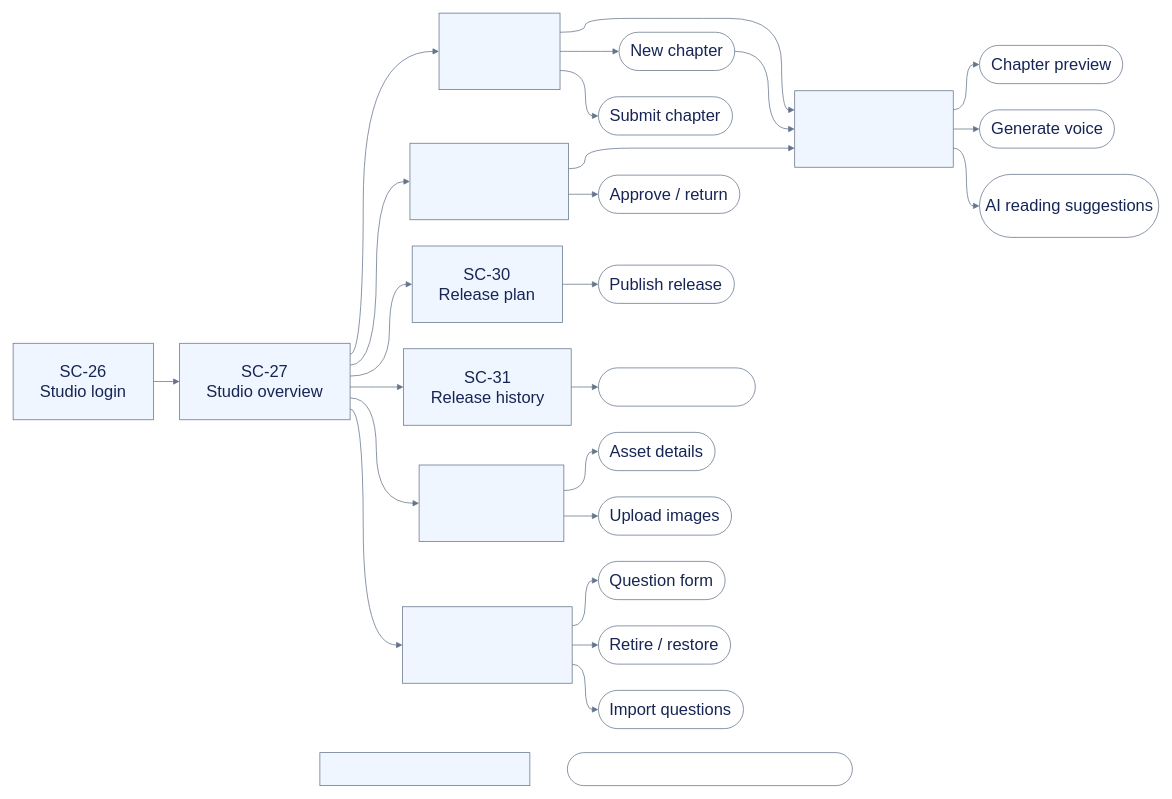
The diagram is 1172 pixels wide and 799 high, and some of its shapes have lost their labels. Here are the shapes that lost their labels. From the top down, the centre of each, then its label:
At point (499, 51): "SC-14 Chapters".
At point (873, 128): "SC-28 Chapter editor".
At point (488, 181): "SC-29 Review queue".
At point (676, 386): "Set current / recall".
At point (491, 503): "SC-32 Asset library".
At point (487, 644): "SC-33 Question library".
At point (424, 769): "Screen / tab (SC)".
At point (709, 769): "Action / form / dialog".
